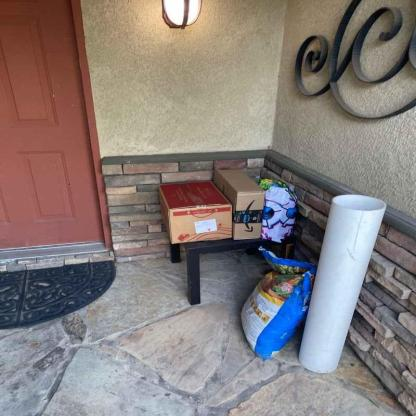label: (195, 219, 218, 233)
package: (157, 181, 234, 244), (215, 170, 265, 237)
